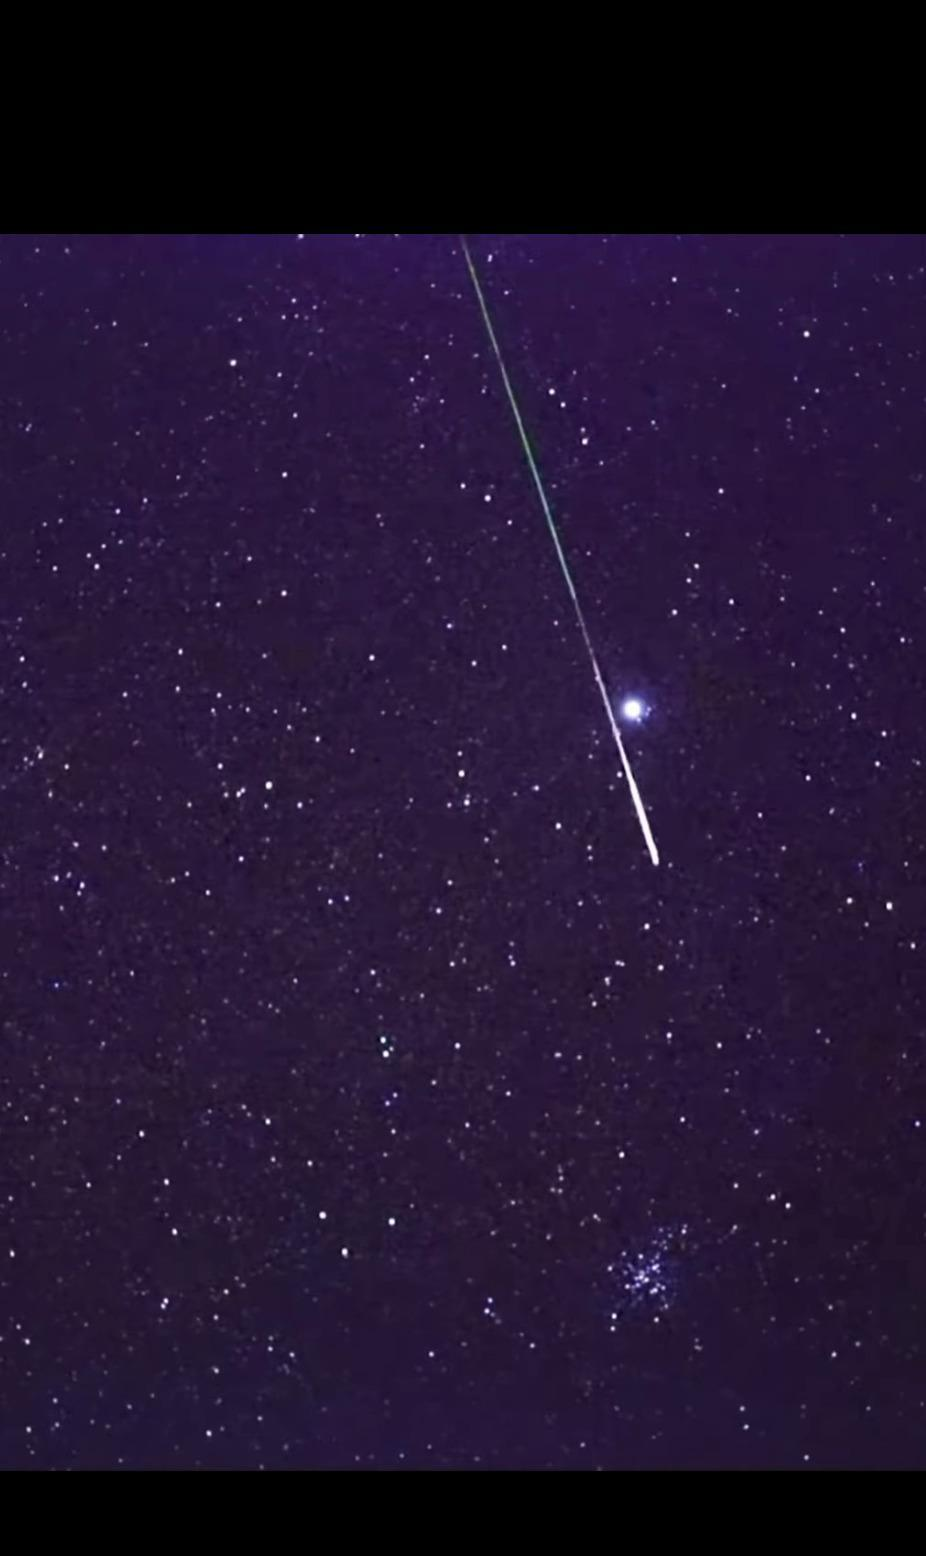meteorite: (500, 413, 687, 901)
